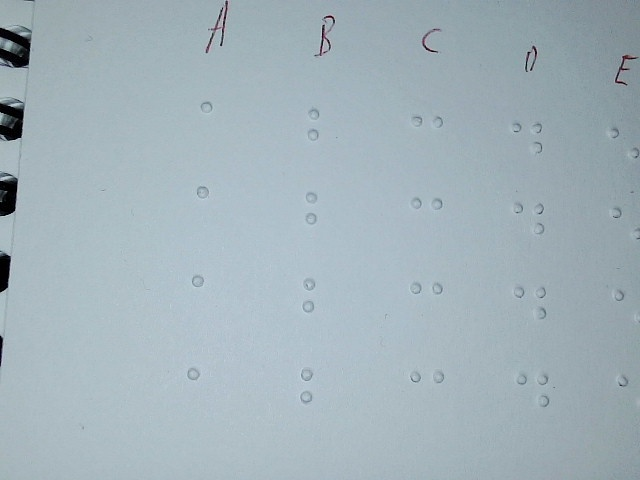A: (193, 93, 240, 161), (189, 177, 236, 245), (184, 264, 231, 332), (179, 358, 226, 426)
B: (300, 101, 347, 169), (299, 185, 346, 253), (296, 269, 343, 337), (292, 359, 339, 427)
C: (406, 105, 450, 171), (404, 188, 448, 254), (405, 272, 449, 338), (405, 359, 449, 425)
